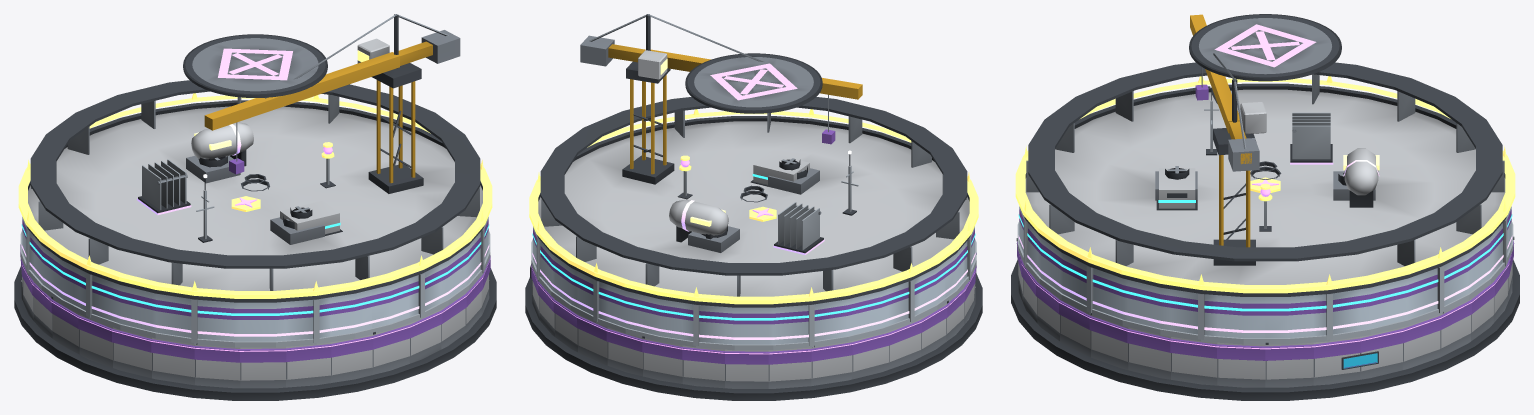
The model's file is cold_storage_m.glb.
3 views of the same model, side by side, from view 1: azimuth 30°, elevation 25°; view 2: azimuth 150°, elevation 25°; view 3: azimuth 270°, elevation 25° (orthographic). The views are drawn at different scales.
Visible parts, largest first — view 1: Roof, Base, L4, Wall_21, Wall_20, Wall_22, Wall_19, Wall_23, Upper_20, Upper_22, Upper_21, Wall_18 (+23 smaller); view 2: Roof, Base, L4, Wall_11, Wall_10, Wall_09, Wall_12, Wall_08, Upper_11, Upper_10, Upper_09, Wall_13 (+22 smaller); view 3: Roof, Base, L4, Wall_00, Wall_31, Wall_30, Wall_29, Upper_00, Upper_31, Wall_01, Upper_01, Upper_30 (+24 smaller).
Part boxes in pixels (left/top/right/bottom): Roof: left=27, top=14, right=483, bottom=302; Base: left=14, top=266, right=496, bottom=400; L4: left=137, top=122, right=253, bottom=214; Wall_21: left=240, top=347, right=286, bottom=388; Wall_20: left=194, top=343, right=240, bottom=388; Wall_22: left=286, top=342, right=331, bottom=387; Wall_19: left=151, top=337, right=194, bottom=385; Wall_23: left=330, top=334, right=373, bottom=382; Upper_20: left=194, top=299, right=240, bottom=342; Upper_22: left=286, top=297, right=330, bottom=342; Upper_21: left=240, top=302, right=285, bottom=341; Wall_18: left=112, top=327, right=151, bottom=378; Roof: left=537, top=14, right=970, bottom=307; Base: left=525, top=273, right=982, bottom=400; L4: left=669, top=199, right=824, bottom=254; Wall_11: left=768, top=347, right=811, bottom=388; Wall_10: left=725, top=349, right=768, bottom=388; Wall_09: left=682, top=345, right=724, bottom=388; Wall_12: left=811, top=341, right=852, bottom=385; Wall_08: left=642, top=336, right=682, bottom=383; Upper_11: left=768, top=305, right=811, bottom=345; Upper_10: left=725, top=307, right=768, bottom=344; Upper_09: left=683, top=303, right=724, bottom=345; Wall_13: left=852, top=331, right=889, bottom=379; Roof: left=1024, top=14, right=1506, bottom=296; Base: left=1011, top=259, right=1519, bottom=400; L4: left=1290, top=112, right=1379, bottom=207; Wall_00: left=1265, top=342, right=1313, bottom=387; Wall_31: left=1217, top=342, right=1265, bottom=387; Wall_30: left=1170, top=337, right=1217, bottom=385; Wall_29: left=1127, top=327, right=1170, bottom=379; Upper_00: left=1265, top=295, right=1313, bottom=338; Upper_31: left=1217, top=295, right=1265, bottom=338; Wall_01: left=1313, top=337, right=1360, bottom=385; Upper_01: left=1313, top=289, right=1359, bottom=339; Upper_30: left=1171, top=289, right=1217, bottom=339.
Size of the model in its own units: 13.25 by 8.03 by 13.25.
